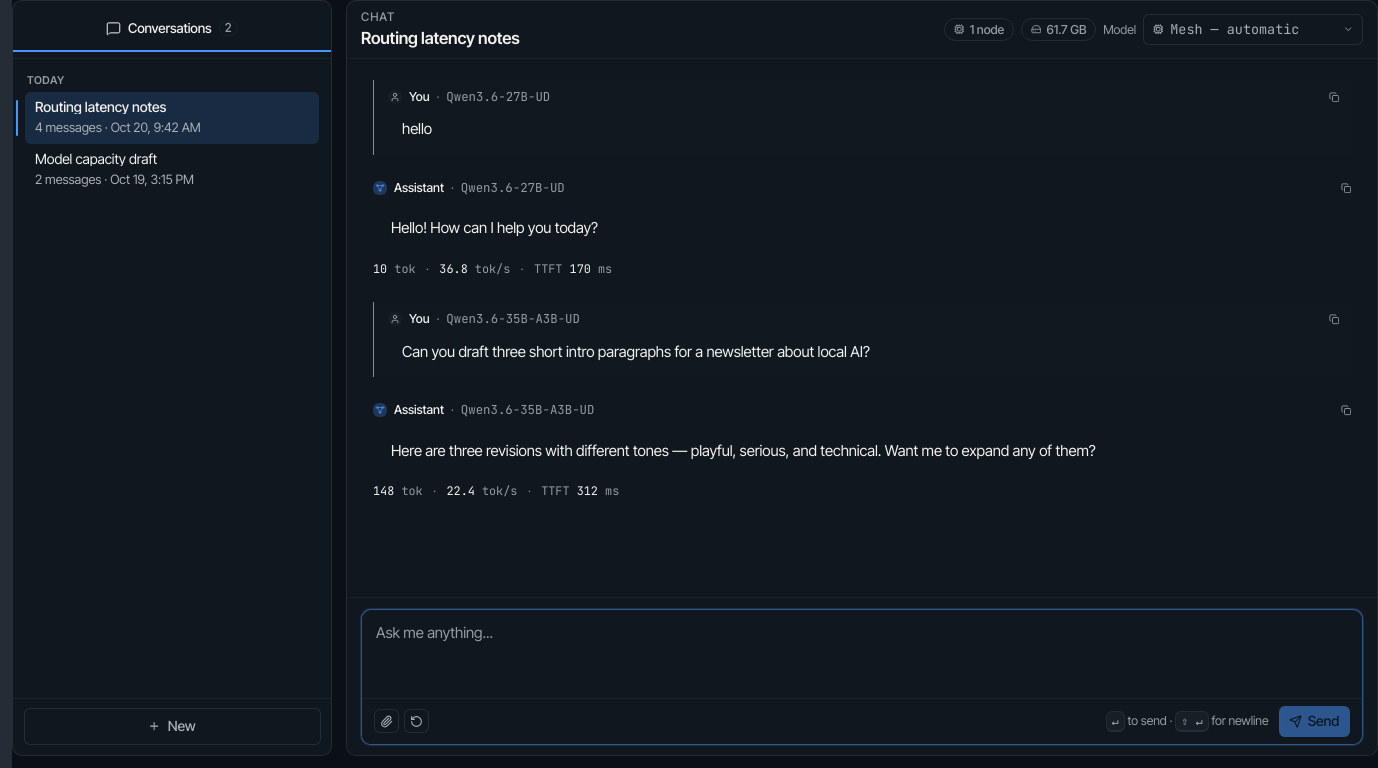
chat and configuration app tabs › switches chat conversations from the sidebar
The width and height of the screenshot is (1378, 768).
Expected: the text "newsletter about local AI" is shown, top-left (402, 342), bottom-right (870, 360)
Expected: the text "pooled placement plan" is not shown
Click the button "Model capacity draft 2 messages · Oct 19, 3:15 PM". click: (172, 170)
box: top-left (25, 144), bottom-right (319, 196)
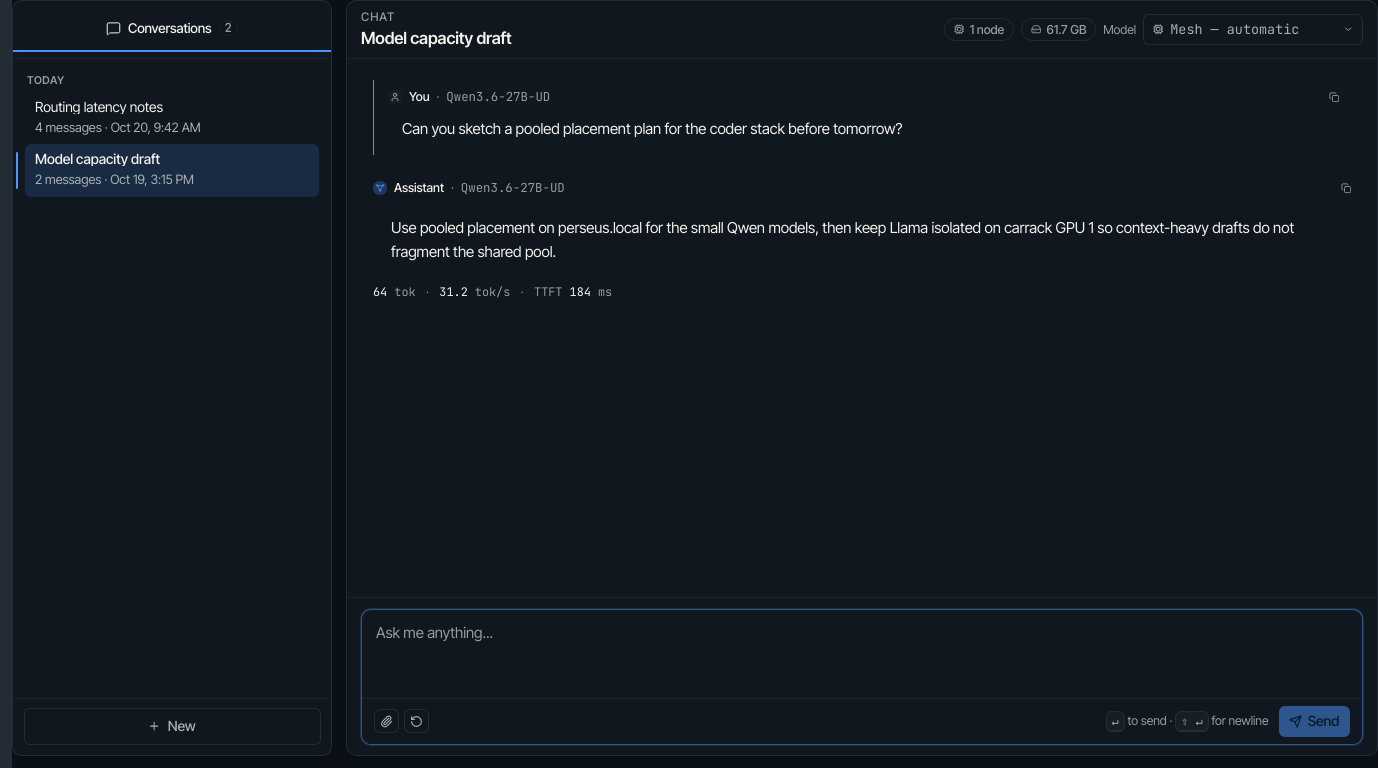
Expected: the text "pooled placement plan" is shown, top-left (402, 119), bottom-right (902, 138)
Expected: the text "Use pooled placement on perseus.local" is shown, top-left (391, 218), bottom-right (1294, 261)
Expected: the text "newsletter about local AI" is gone
Click the button "Routing latency notes 4 messages · Oct 20, 9:42 AM". click: (172, 118)
box: top-left (25, 92), bottom-right (319, 144)
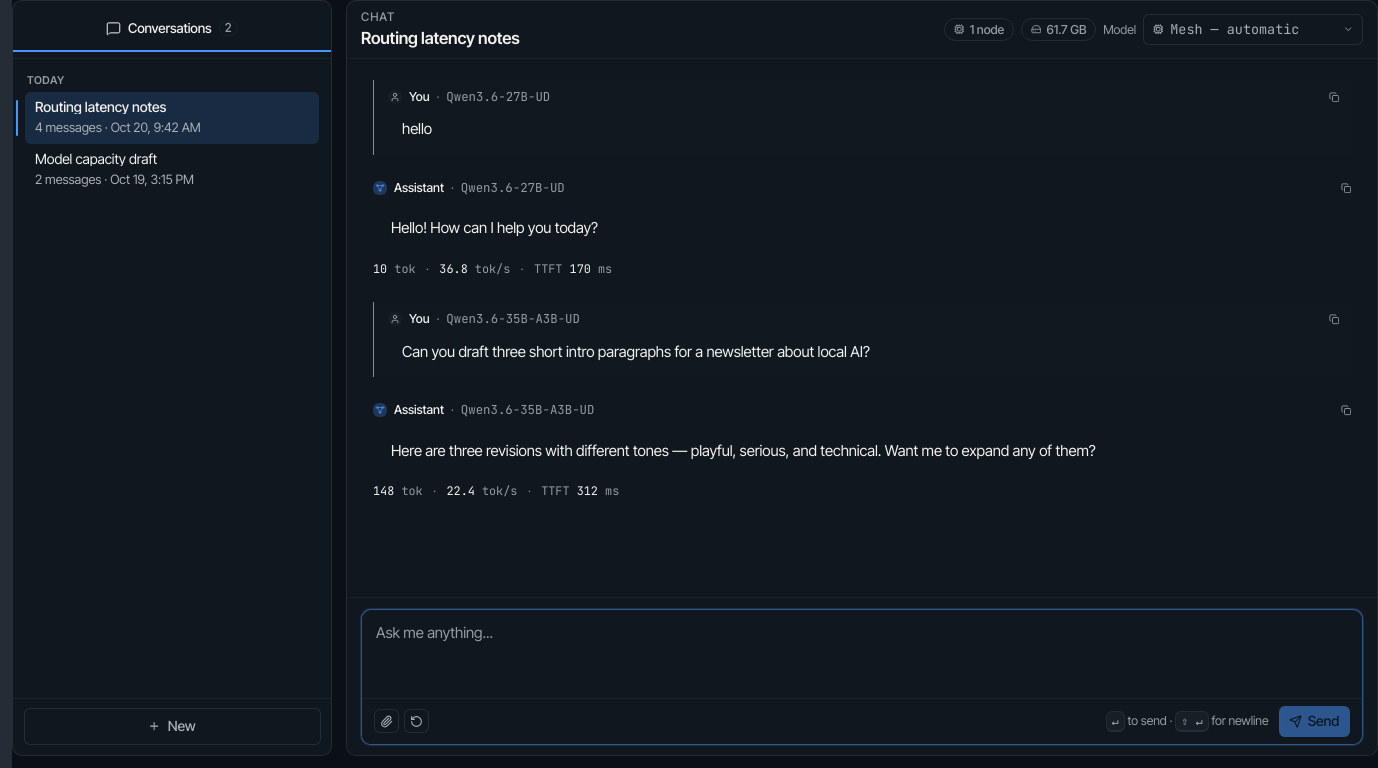
Expected: the text "newsletter about local AI" is shown, top-left (402, 342), bottom-right (870, 360)
Expected: the text "pooled placement plan" is gone
